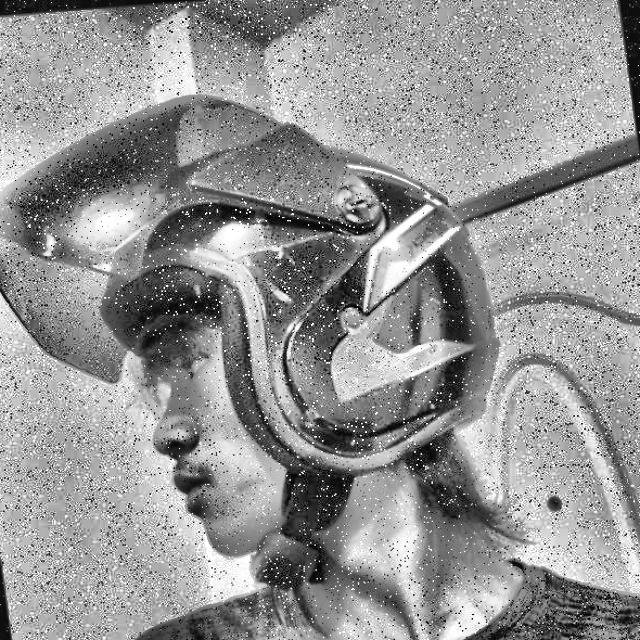Helmet: (0, 55, 539, 627)
